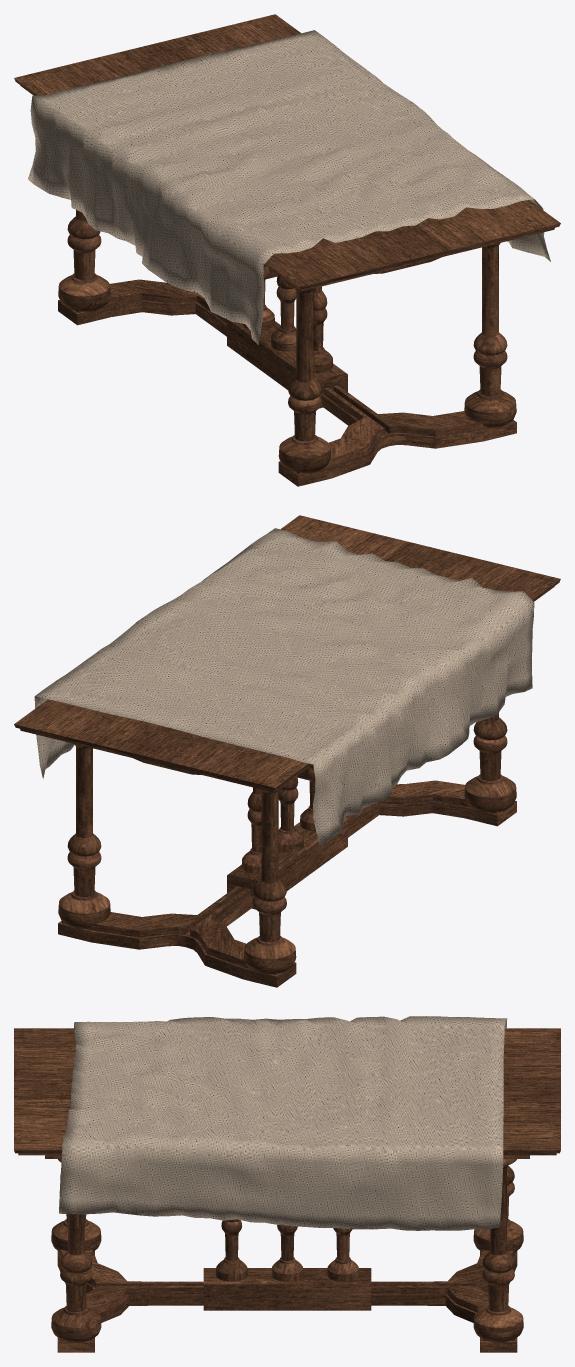
File: KUHSTOL.fbx
The picture shows the model from 3 angles, top to bottom: view 1: azimuth 30°, elevation 25°; view 2: azimuth 150°, elevation 25°; view 3: azimuth 270°, elevation 25°; orthographic projection. The views are drawn at different scales.
Parts seen in each view (by area): view 1: KUHSTOL; view 2: KUHSTOL; view 3: KUHSTOL.
Part boxes in pixels (left/top/right/bottom): KUHSTOL: left=14, top=14, right=560, bottom=486; KUHSTOL: left=14, top=515, right=560, bottom=987; KUHSTOL: left=14, top=1016, right=560, bottom=1352.
Size of the model in its own units: 1761 by 1334 by 2947.
